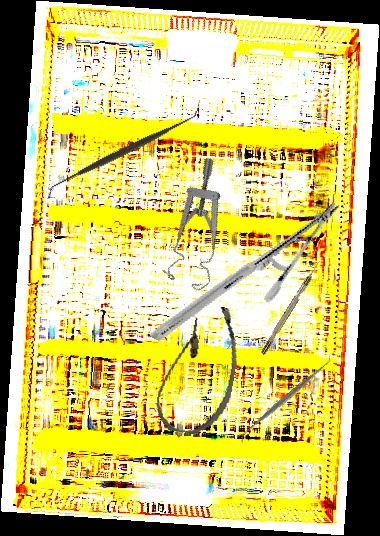Cannula: (152, 298, 246, 440)
Hook Surgical: (259, 259, 323, 356)
Needle Holder: (148, 155, 343, 388)
Spatula Surgical: (42, 106, 203, 199), (233, 353, 338, 445)
Speculum: (140, 156, 267, 298)
